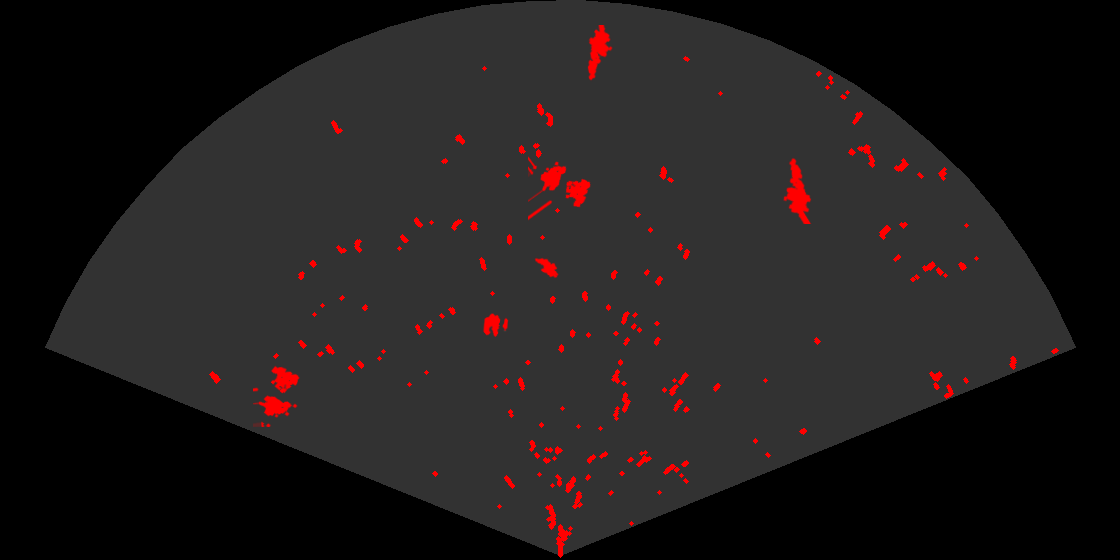AUV: (533, 256, 560, 280)
ball: (482, 312, 510, 339)
cage: (528, 155, 592, 222), (253, 364, 301, 427)
frogman: (782, 156, 813, 224), (586, 25, 614, 82)
